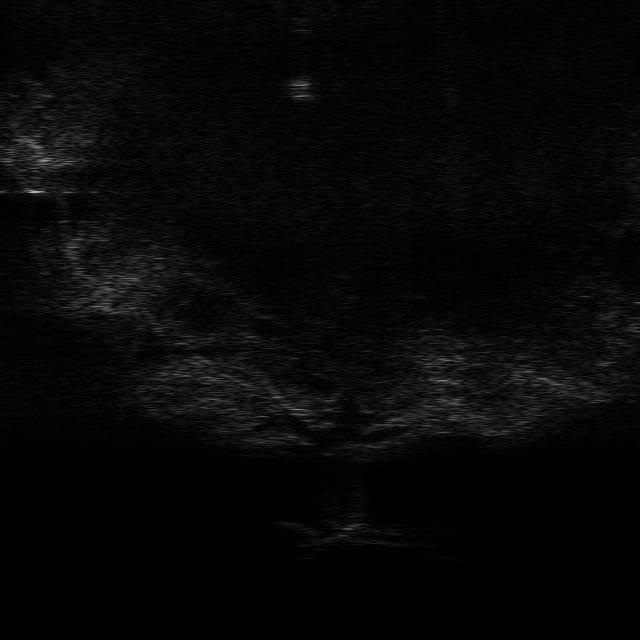plane: (277, 515, 408, 549)
